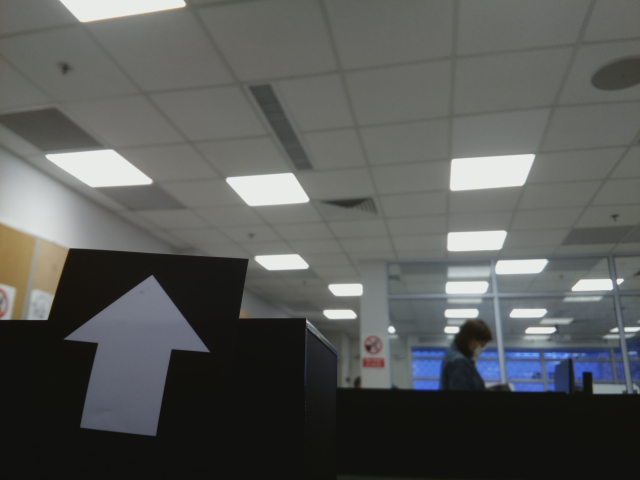up: (66, 255, 216, 452)
